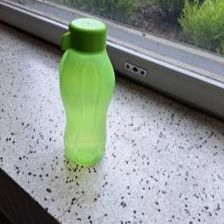bottle: (53, 16, 116, 165)
